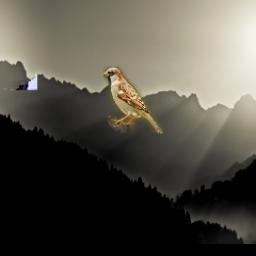Crow: (1, 2, 36, 91)
Sparrow: (103, 67, 163, 133)
